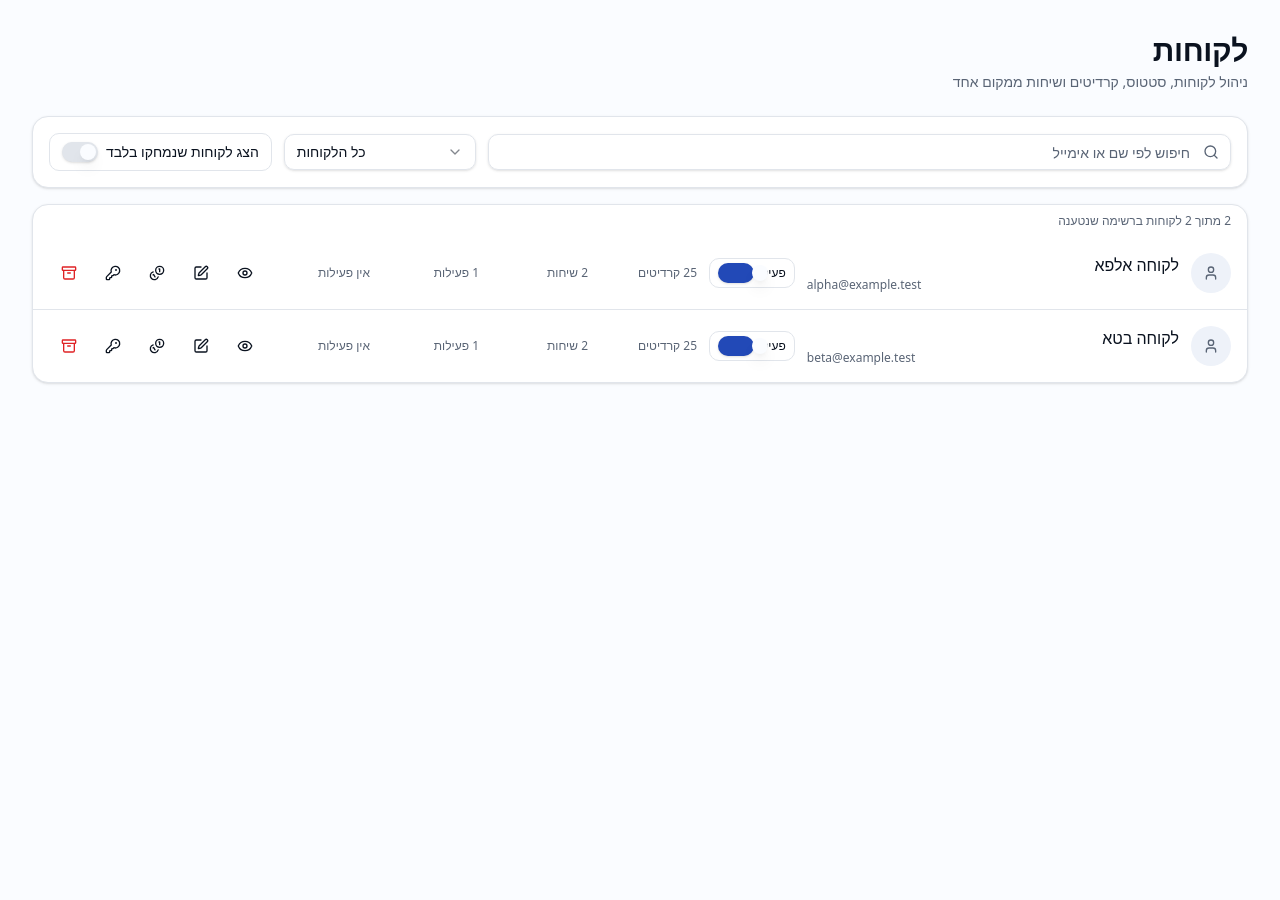
it: admin client editing › blocks a missing client profile instead of offering blank or zero-filled writes
Expected: the text "לקוחה אלפא" is shown, [1095,254,1179,276]
Click the button titled "עריכת לקוח" in the row of "alpha@example.test" at point(201, 273), box [181,257,221,289]
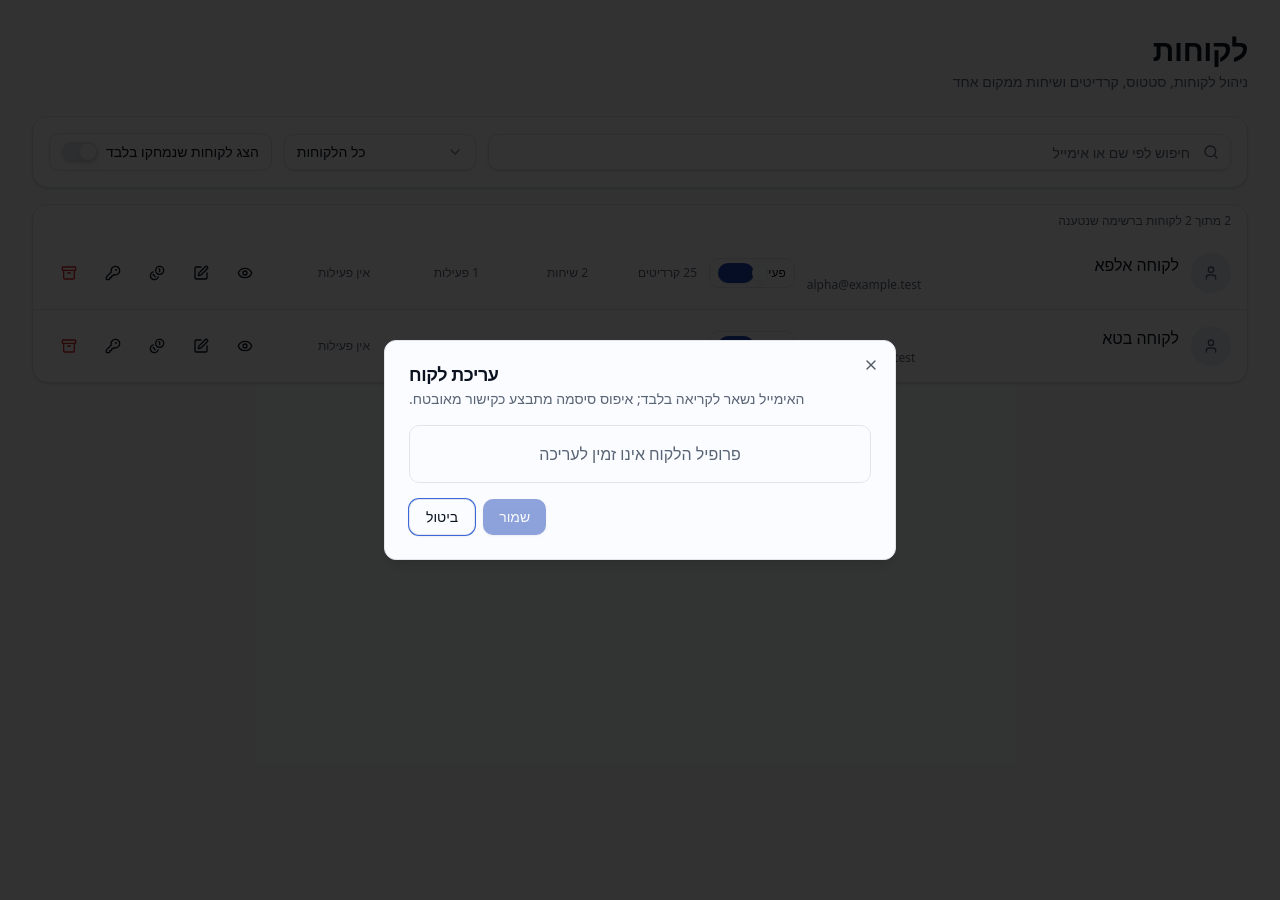
Expected: the text "פרופיל הלקוח אינו זמין לעריכה" is shown, [409,425,871,483]
Expected: the button "שמור" is disabled, [483,499,546,535]
